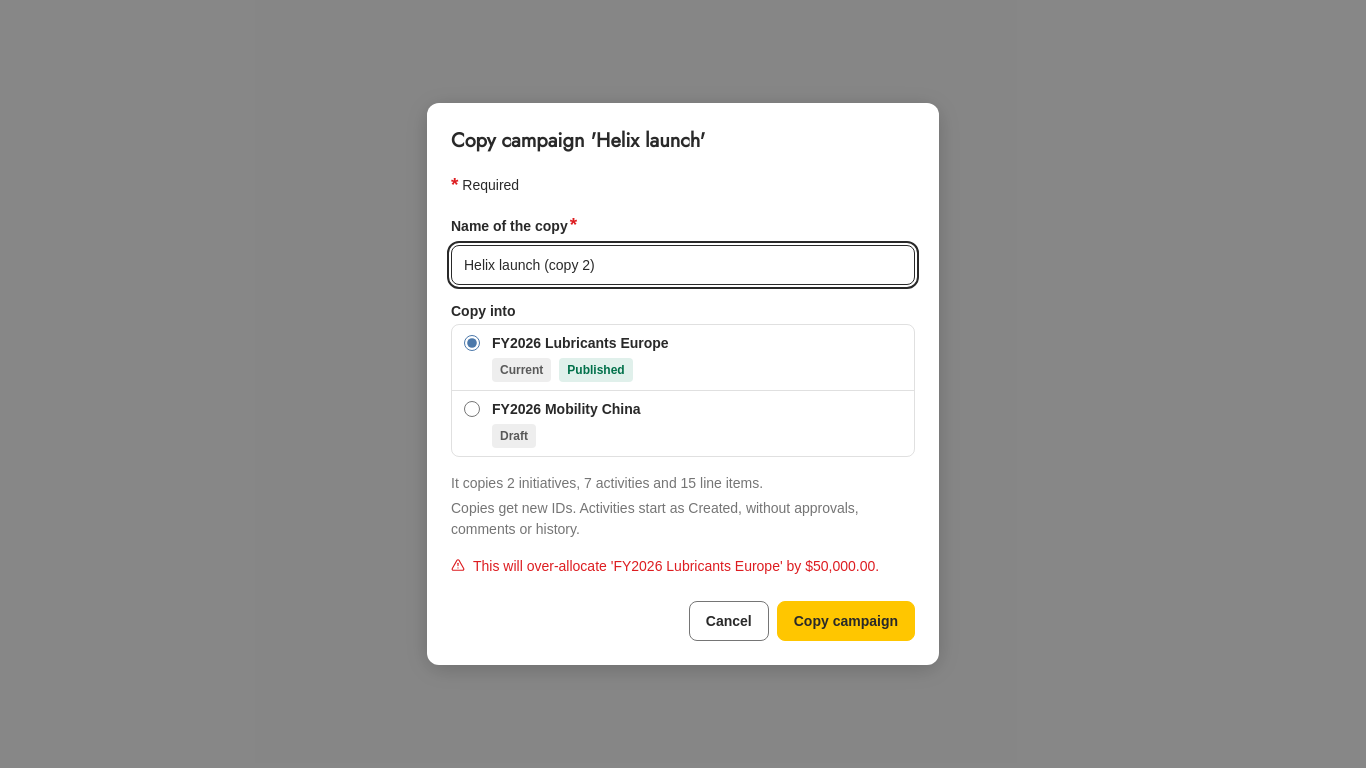
Scenario: CopyDialog (feature 005, US6#4–5, FR-026, FR-027) › shows the API’s problems under the name and the destinations
Check: the field labelled "Name of the copy" is shown, box [451,245,915,285]
Click the button "Copy campaign": click(846, 621) [777,601,915,641]
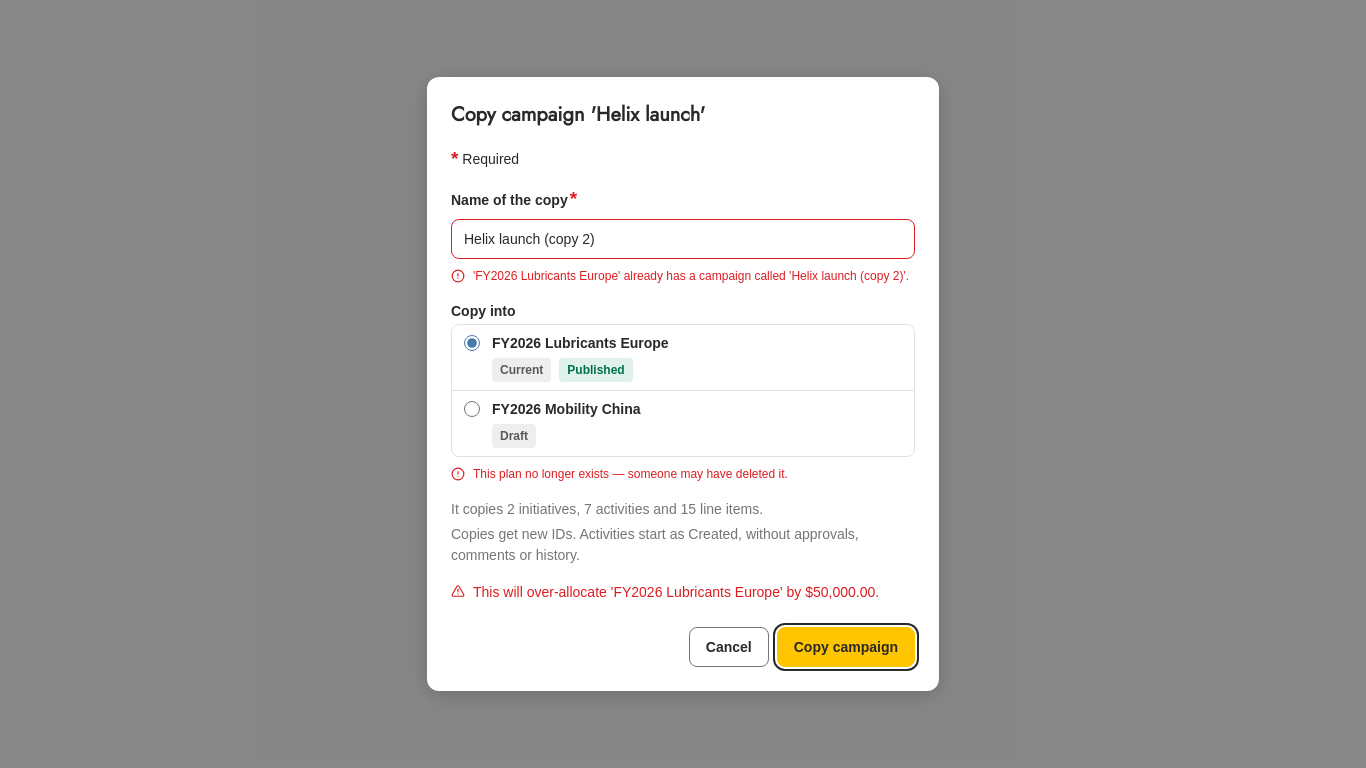
Check: the text "'FY2026 Lubricants Europe' already has a campaign called 'Helix launch (copy 2)'." is shown, box [473,269,909,283]
